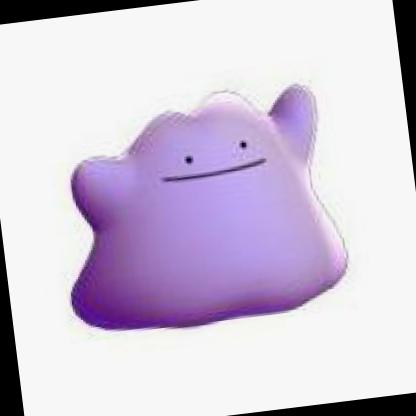Ditto: (0, 15, 391, 415)
